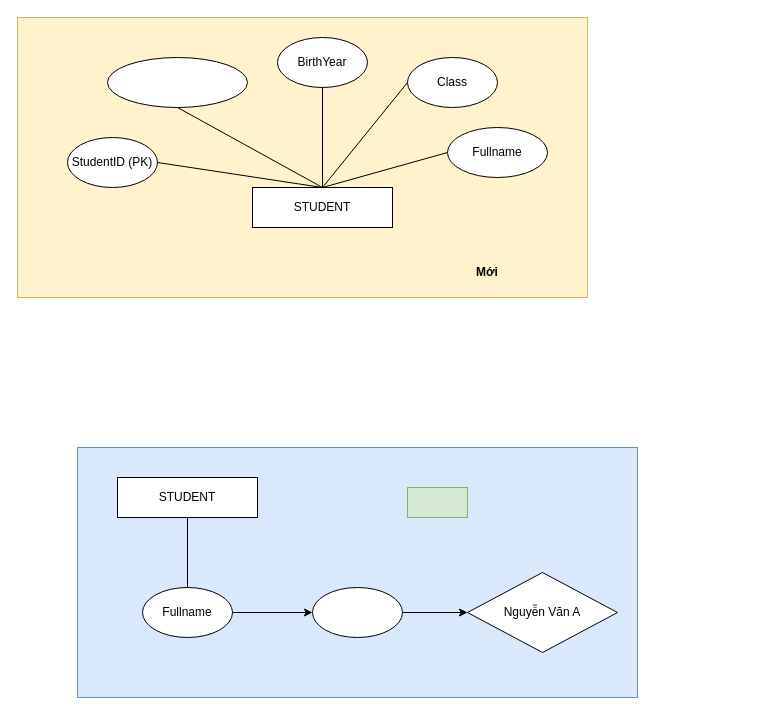
Some shapes in this 778 by 715 pixel diagram are drawn without their labels. The box of each missing label's shape, as (x1, y1, x2, y2) in pixels:
Cũ: (406, 486, 468, 518)
Student card (PK): (106, 56, 248, 108)
Trùng tên: (312, 586, 402, 638)
